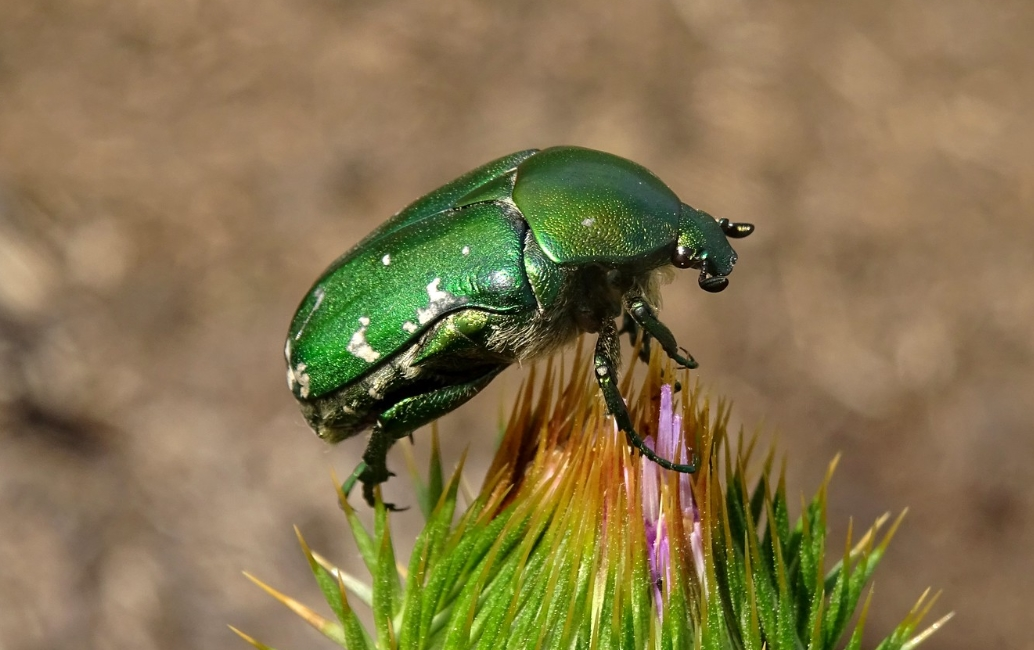Cetonia_aurata: (260, 127, 758, 534)
